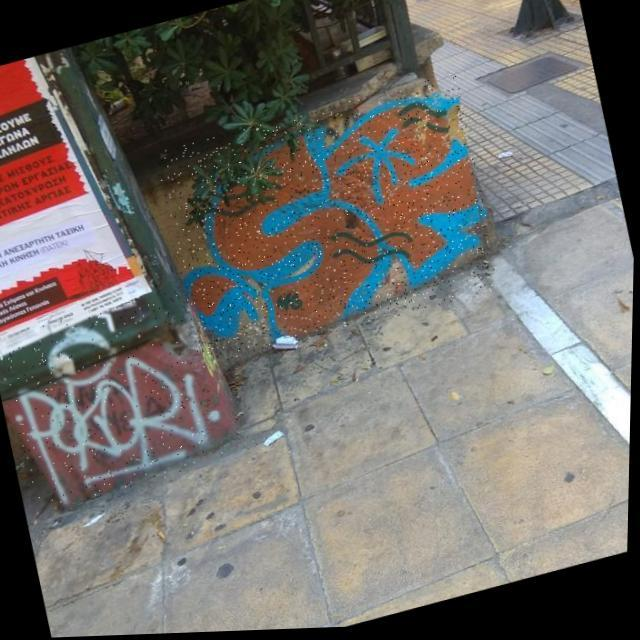-: (152, 75, 506, 371), (0, 290, 218, 513)
